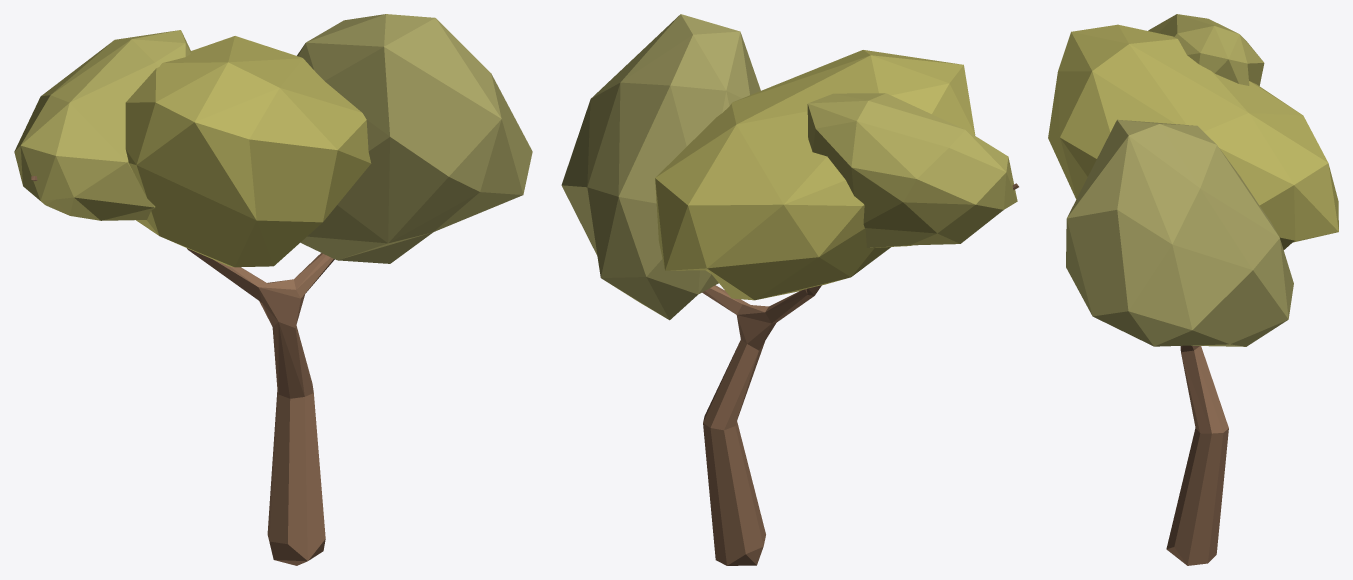
Rendered from tree11.fbx.
The picture shows the model from 3 angles, left to right: view 1: azimuth 30°, elevation 25°; view 2: azimuth 150°, elevation 25°; view 3: azimuth 270°, elevation 25°; orthographic projection. The views are drawn at different scales.
Visible parts, largest first — view 1: Sphere.030; view 2: Sphere.030; view 3: Sphere.030.
Boxes of the visible parts, x1,y1,x2,y2 form: Sphere.030: (14, 14, 532, 565); Sphere.030: (561, 14, 1018, 565); Sphere.030: (1048, 14, 1338, 565).
Bounding box in the file's own units: 559 × 613 × 340.
Materials: 1 (1 with a texture image).
